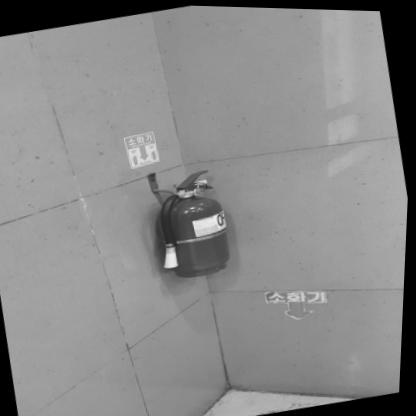FE: (147, 164, 242, 283)
